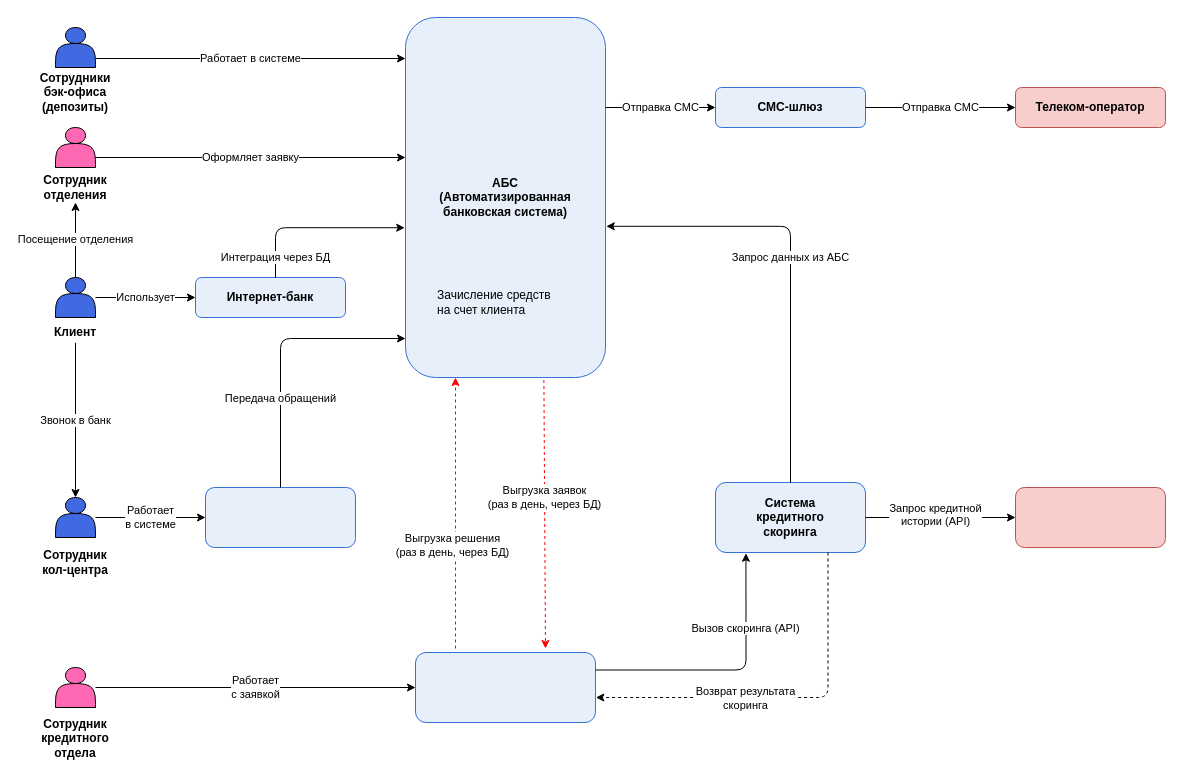
The diagram is 1183 pixels wide and 777 high, and some of its shapes have lost their labels. Each missing label, with the box of its shape:
Бюро кредитных историй: (1014, 486, 1166, 548)
Кредитный конвейер: (414, 652, 596, 722)
Система кол-центра: (204, 486, 356, 548)
